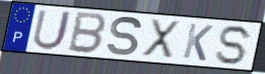B: (65, 10, 110, 56)
K: (181, 22, 216, 63)
S: (214, 24, 255, 66), (106, 15, 144, 58)
U: (30, 8, 74, 52)
X: (140, 17, 182, 61)
